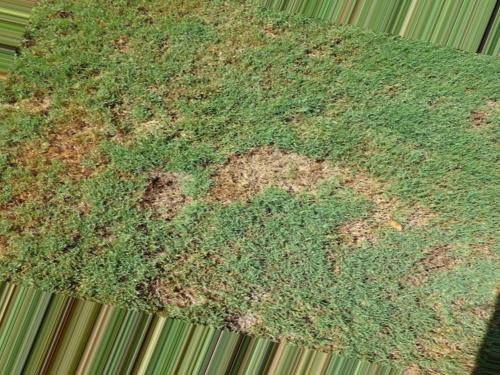patch: (225, 146, 356, 234), (377, 210, 457, 333), (184, 36, 260, 131), (26, 118, 91, 194), (153, 257, 214, 318), (144, 179, 191, 226), (239, 277, 275, 333)
